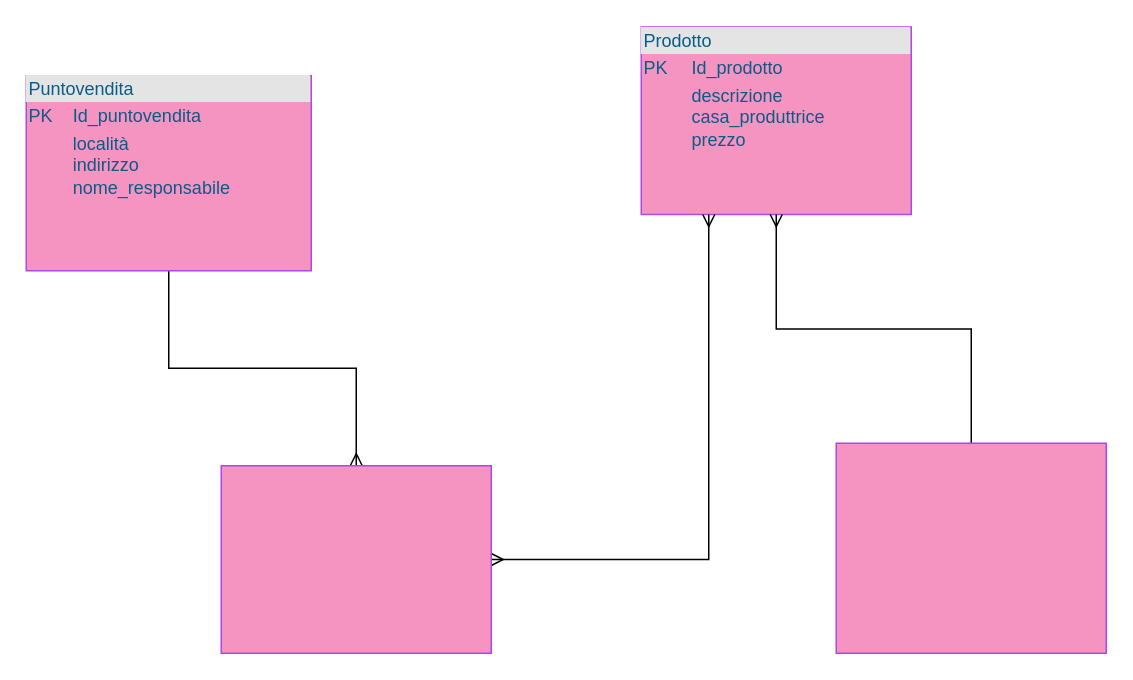
Image size: 1133x680. Some labels were removed from this diagram. The shapes that lost their labels are listed below. From the top down, each one's centre as x and y in pixels, then its label:
At pixel 355 558: "Approvvigionamenti PK Id_approvvigionamento quantità data_arrivo".
At pixel 970 547: "Fornitore PK codice_fiscale nome sede".
